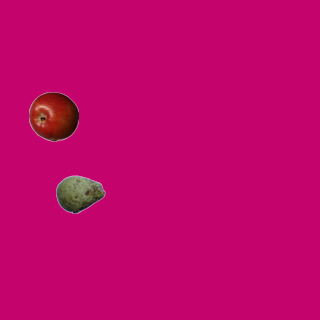Apple Braeburn: (28, 91, 78, 141)
Pear Stone: (55, 169, 105, 219)
